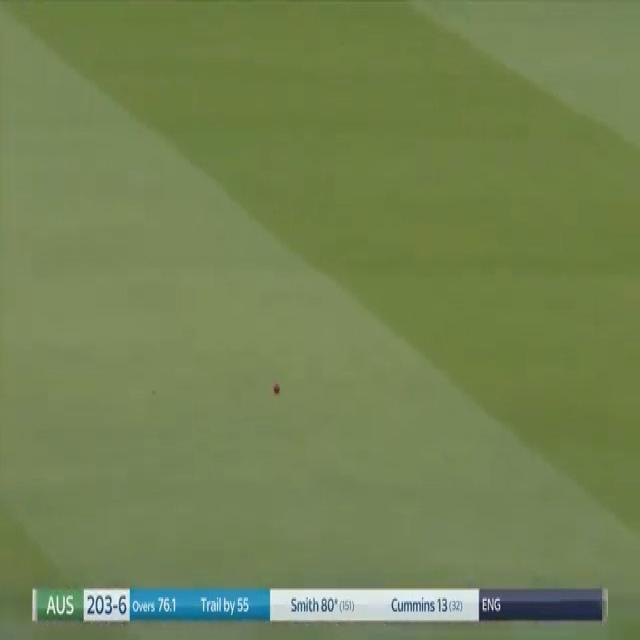ball: (272, 380, 284, 397)
